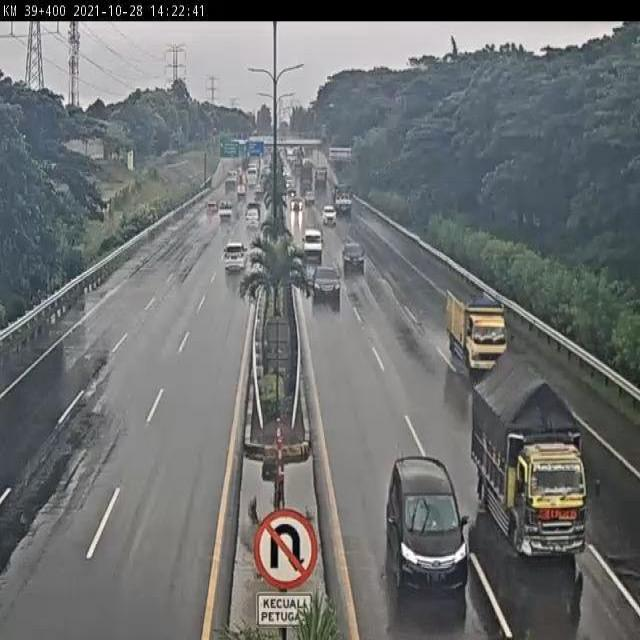big truck: (472, 373, 590, 559)
car: (376, 455, 469, 604), (310, 264, 343, 308), (222, 240, 251, 276), (342, 244, 367, 277), (243, 201, 266, 232), (303, 233, 324, 263), (335, 187, 356, 216), (320, 206, 341, 230), (218, 202, 234, 226), (202, 198, 218, 218)
small truck: (445, 285, 514, 376), (232, 183, 248, 201)
